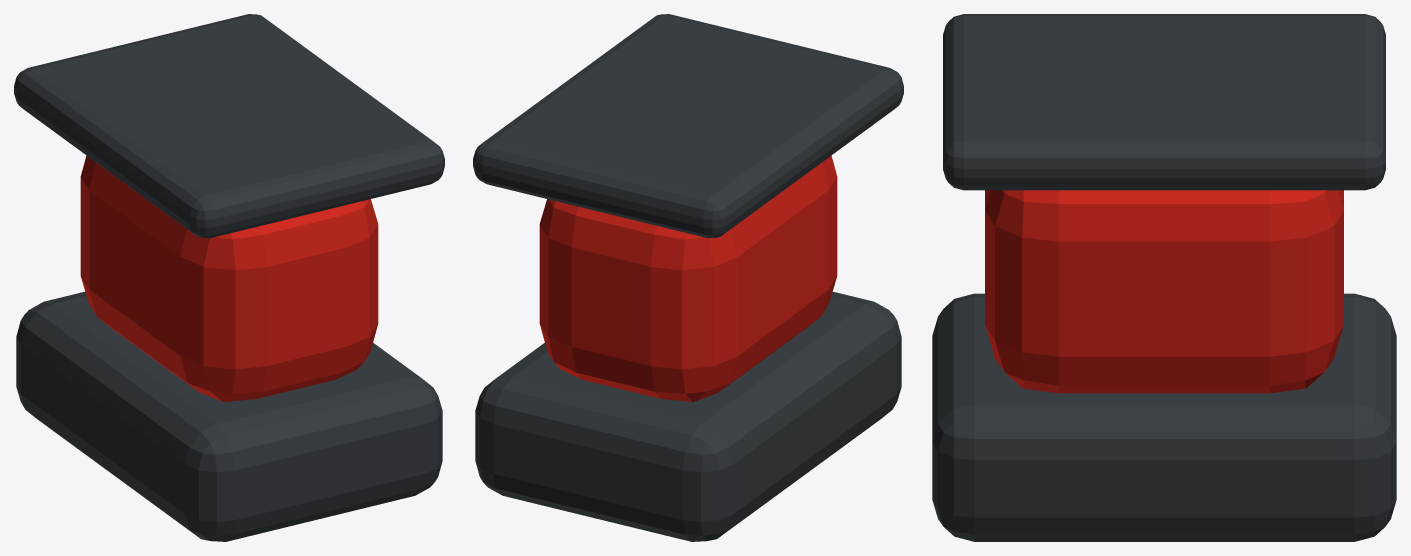
The model's file is navigation_light_port.glb.
3 views of the same model, side by side, from view 1: azimuth 30°, elevation 25°; view 2: azimuth 150°, elevation 25°; view 3: azimuth 270°, elevation 25° (orthographic). The views are drawn at different scales.
Visible parts, largest first — view 1: Navigation light bracket, Protective cap, Sealed navigation lens; view 2: Navigation light bracket, Protective cap, Sealed navigation lens; view 3: Navigation light bracket, Protective cap, Sealed navigation lens.
Boxes of the visible parts, x1,y1,x2,y2 form: Navigation light bracket: [16, 291, 442, 541]; Protective cap: [14, 14, 444, 238]; Sealed navigation lens: [80, 155, 378, 401]; Navigation light bracket: [475, 291, 901, 541]; Protective cap: [473, 14, 903, 238]; Sealed navigation lens: [539, 155, 837, 401]; Navigation light bracket: [932, 293, 1396, 541]; Protective cap: [943, 14, 1385, 190]; Sealed navigation lens: [985, 190, 1343, 393].
Bounding box in the file's own units: 0.16 × 0.2125 × 0.22.
